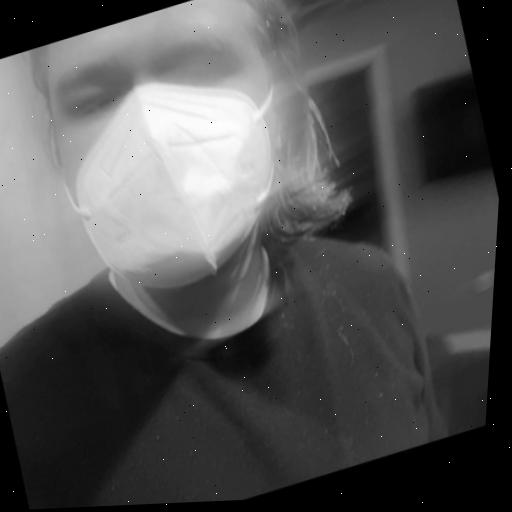mask: (0, 0, 368, 338)
